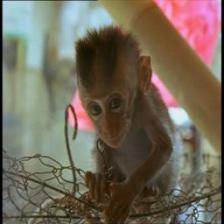monkey: (68, 19, 160, 158)
